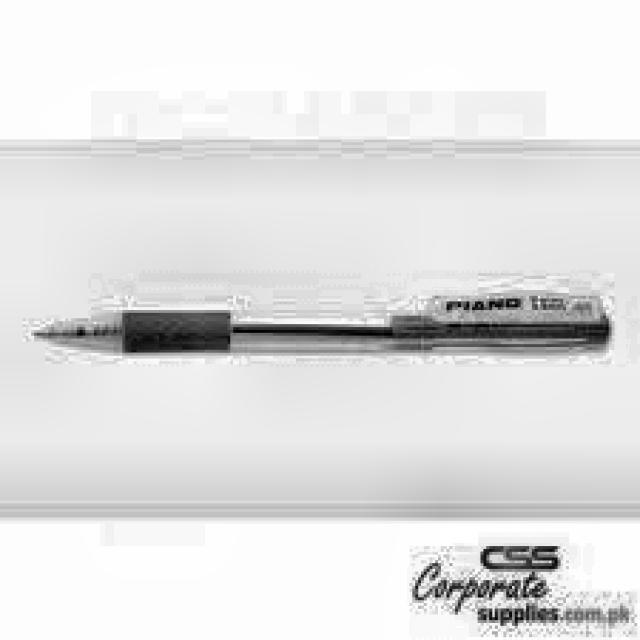Pen: (15, 276, 622, 388)
